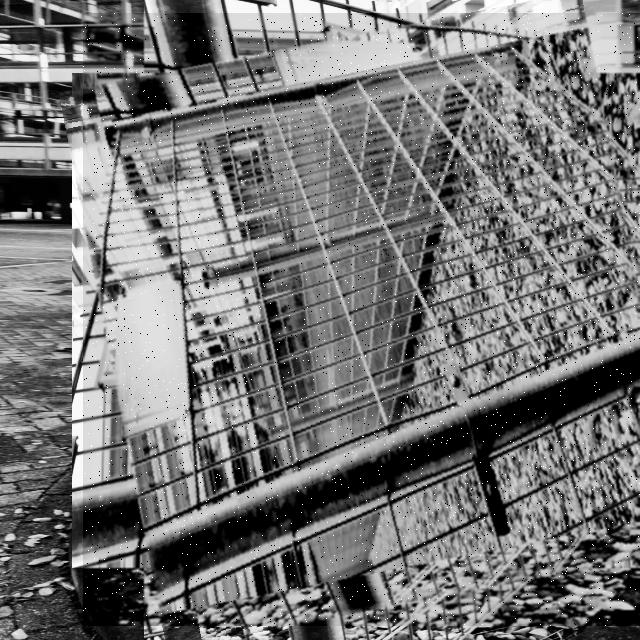fences: (83, 13, 640, 626)
